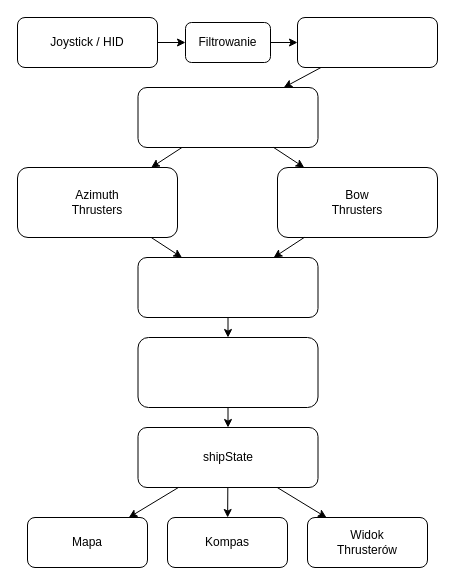
Image size: 455x585. Some labels were removed from this diagram. Each missing label, with the box of its shape:
MotionCommand surge / sway / yaw: (296, 16, 438, 68)
ShipPhysics velocity / yawRate: (137, 336, 318, 408)
Siły i momenty: (137, 256, 318, 318)
ThrusterController: (137, 86, 318, 148)
